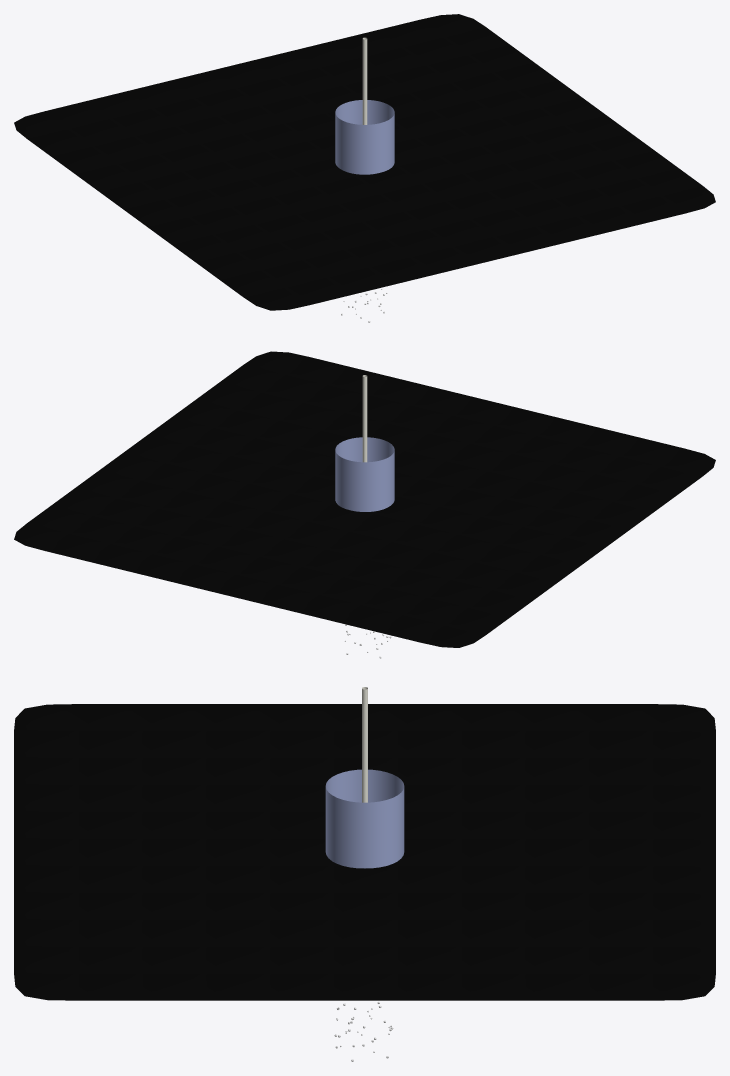
Rendered from Teleportation.fbx.
3 views of the same model, one above another, from view 1: azimuth 30°, elevation 25°; view 2: azimuth 150°, elevation 25°; view 3: azimuth 270°, elevation 25° (orthographic). The views are drawn at different scales.
Parts seen in each view (by area): view 1: Ground, ringOut, ringin; view 2: Ground, ringOut, ringin; view 3: Ground, ringOut, ringin.
Part boxes in pixels (bbox=[...]): Ground: bbox=[14, 14, 715, 310]; ringOut: bbox=[335, 100, 394, 174]; ringin: bbox=[362, 37, 367, 124]; Ground: bbox=[14, 351, 715, 647]; ringOut: bbox=[335, 437, 394, 511]; ringin: bbox=[362, 375, 367, 462]; Ground: bbox=[14, 704, 715, 1000]; ringOut: bbox=[325, 769, 404, 868]; ringin: bbox=[362, 687, 367, 802].
Size of the model in its own units: 1783 by 1021 by 1783.
